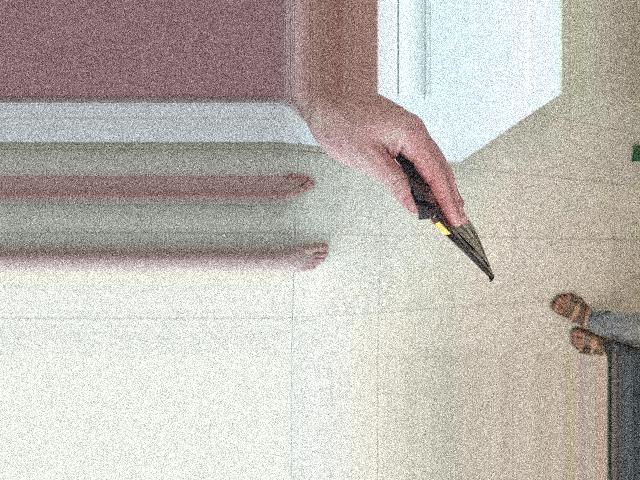chocolate: (417, 226, 562, 336)
